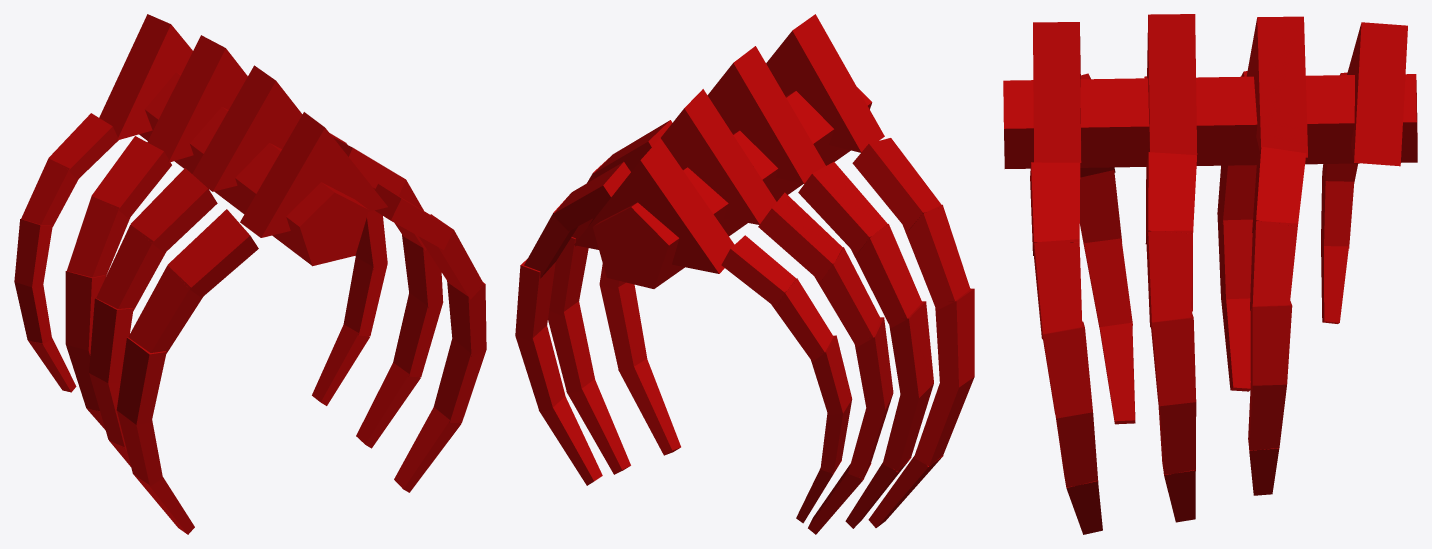
File: SM_Prop_Whale_Skeleton_Ribcage_01_Collision.gltf
3 renders of one model, left to right at view 1: azimuth 30°, elevation 25°; view 2: azimuth 150°, elevation 25°; view 3: azimuth 270°, elevation 25°, orthographic. The views are drawn at different scales.
Visible parts, largest first — view 1: SM_Prop_Whale_Skeleton_Ribcage_01_Collision; view 2: SM_Prop_Whale_Skeleton_Ribcage_01_Collision; view 3: SM_Prop_Whale_Skeleton_Ribcage_01_Collision.
Part boxes in pixels (x1=…): SM_Prop_Whale_Skeleton_Ribcage_01_Collision: x1=14, y1=14, x2=486, y2=534; SM_Prop_Whale_Skeleton_Ribcage_01_Collision: x1=515, y1=14, x2=974, y2=534; SM_Prop_Whale_Skeleton_Ribcage_01_Collision: x1=1003, y1=14, x2=1417, y2=534.
Size of the model in its own units: 5.35 by 6.21 by 5.01.
